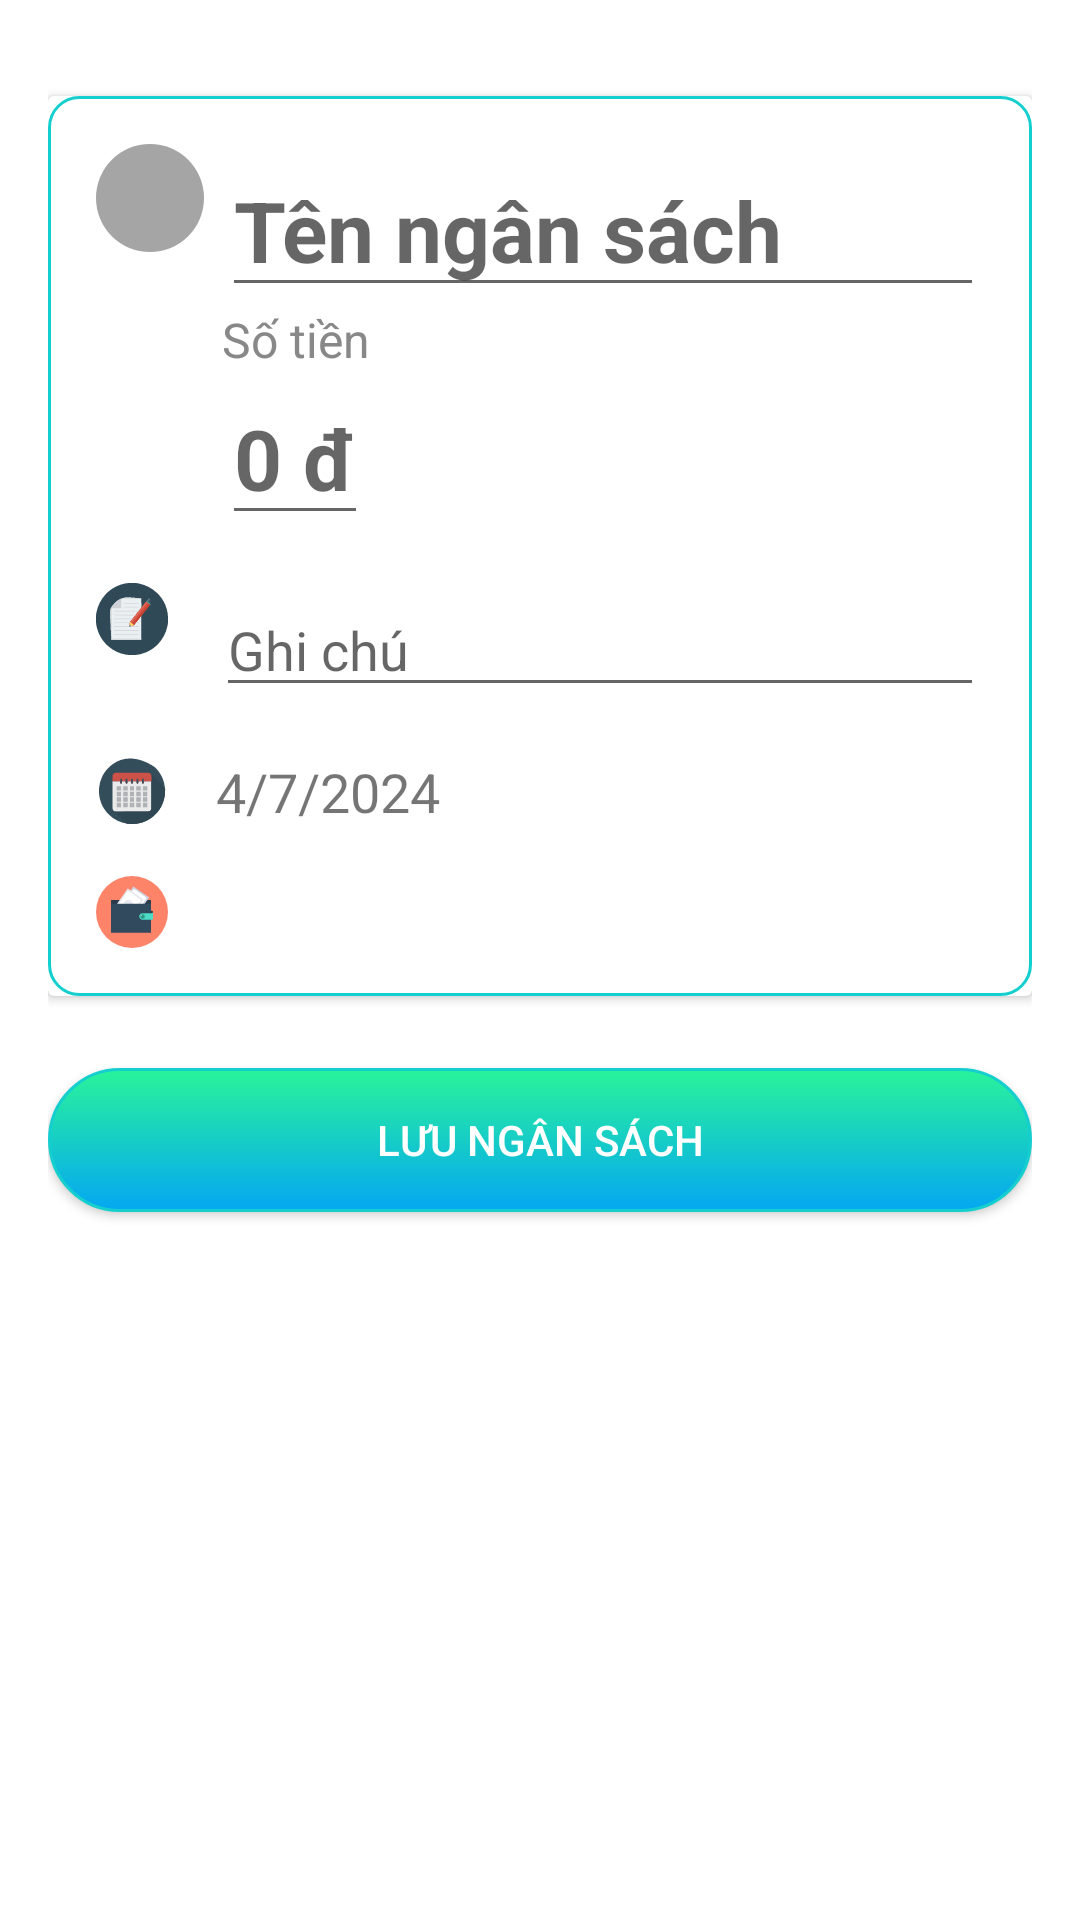

Icons on this 1080 × 1920 Android screen, each with its box as (x1, y1, x2, y2):
calendar: (99, 758, 166, 824)
note: (96, 583, 168, 655)
wallet: (96, 876, 168, 948)
